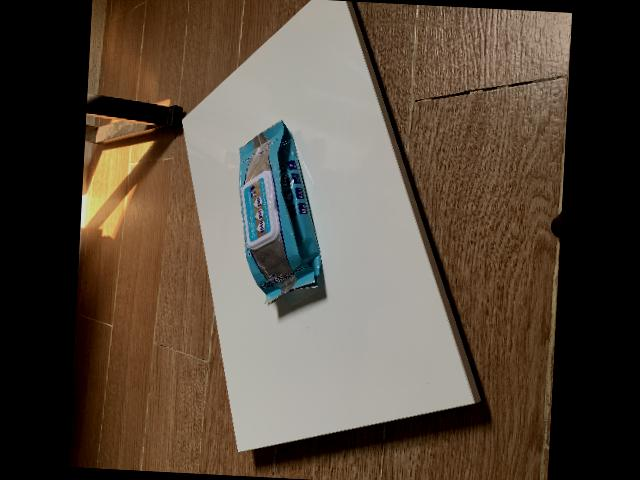Let-green_alcohol_wipes: (236, 117, 327, 303)
